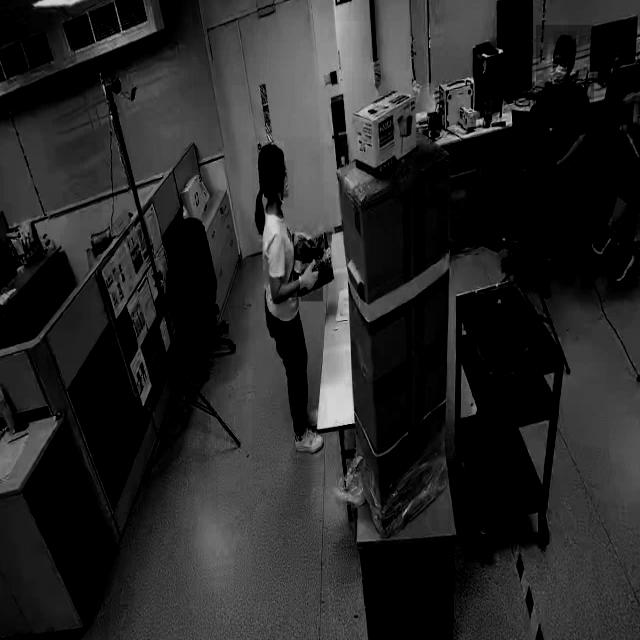face_mask: (547, 44, 571, 90), (276, 160, 294, 208)
hand_glove: (301, 248, 323, 301)
head_nohelmet: (256, 141, 284, 169), (553, 31, 577, 53)
person: (252, 137, 324, 464), (536, 25, 594, 267)
shoes: (590, 220, 614, 258), (611, 247, 635, 284), (292, 429, 326, 455)
